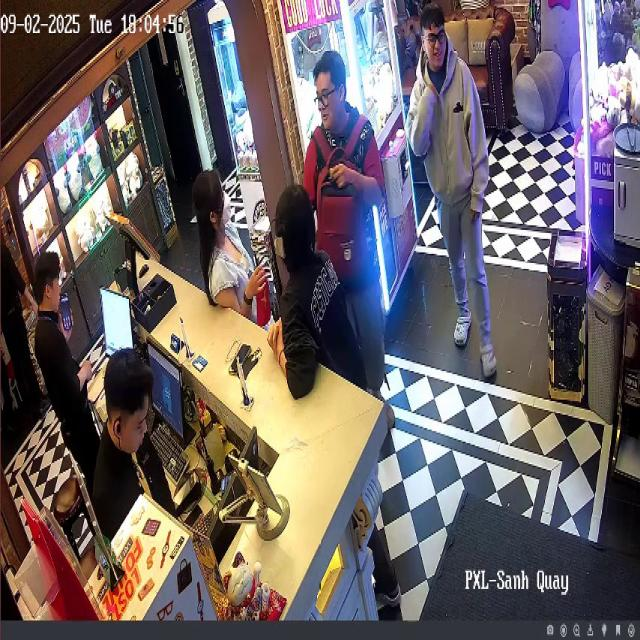khach: (400, 3, 507, 384), (296, 47, 389, 389), (257, 169, 361, 402), (180, 130, 272, 338)
nhan vien: (35, 234, 109, 461), (89, 327, 162, 542)
